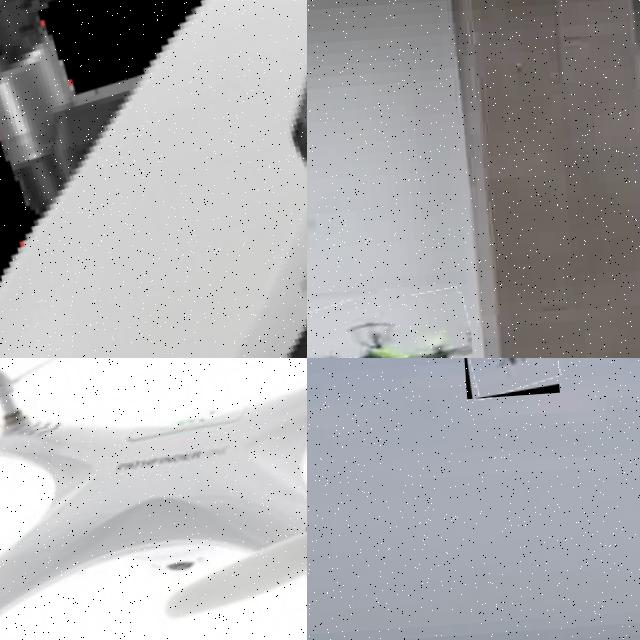0: (307, 291, 477, 358), (460, 358, 559, 398)
drone: (0, 0, 307, 358), (0, 358, 307, 640)
